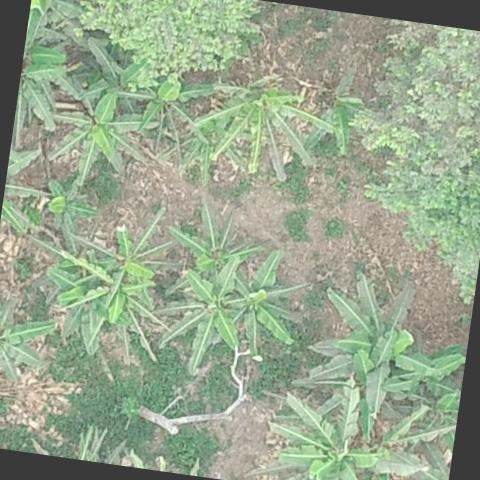Banana-plant: (295, 259, 450, 452), (257, 367, 440, 480), (182, 70, 344, 193), (38, 248, 174, 372), (156, 244, 262, 389), (38, 74, 160, 197), (157, 194, 274, 314), (100, 46, 225, 150), (84, 196, 182, 328), (218, 237, 314, 366), (10, 0, 81, 156), (70, 32, 168, 126), (300, 56, 384, 165), (0, 276, 63, 391), (29, 172, 104, 255), (157, 109, 228, 190)
